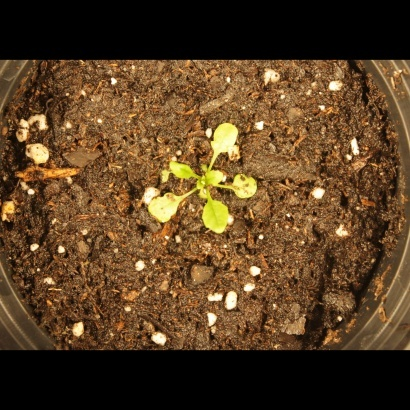leaf: (196, 198, 239, 239), (206, 119, 249, 157), (146, 190, 188, 225), (227, 172, 260, 199), (199, 166, 228, 194), (162, 157, 194, 180)
